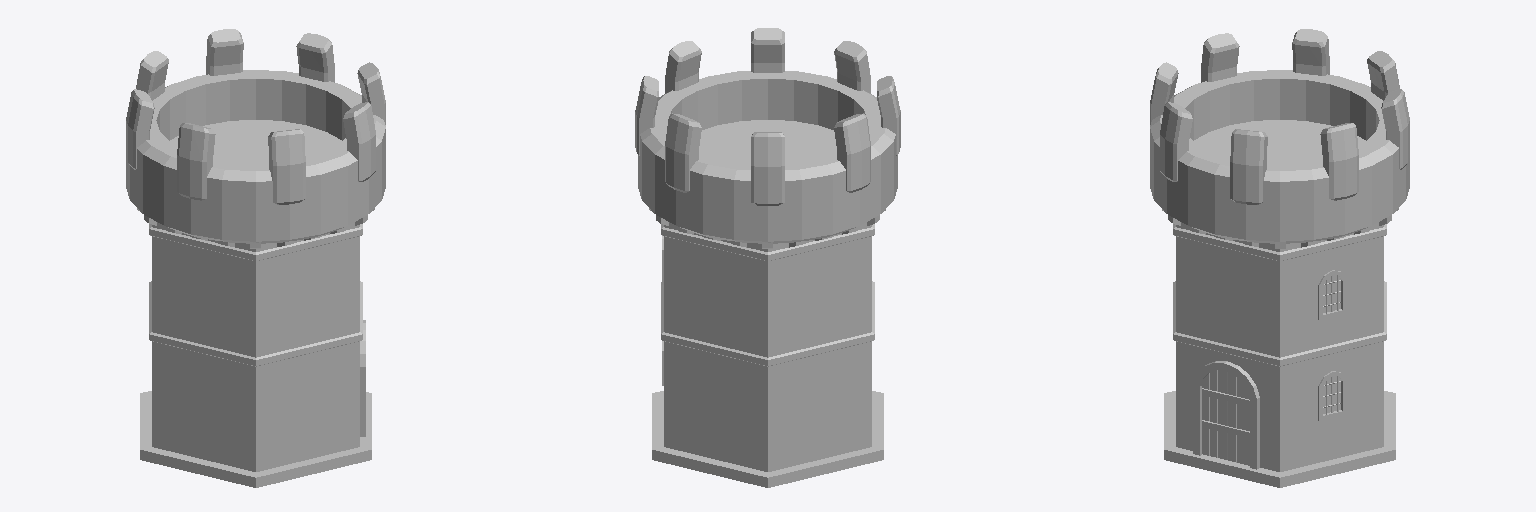
The model's file is tower.obj.
3 views of the same model, side by side, from view 1: azimuth 30°, elevation 25°; view 2: azimuth 150°, elevation 25°; view 3: azimuth 270°, elevation 25° (orthographic).
Parts seen in each view (by area): view 1: Bas_Destek_015_Cube_025; view 2: Bas_Destek_015_Cube_025; view 3: Bas_Destek_015_Cube_025.
Part boxes in pixels (bbox=[...]): Bas_Destek_015_Cube_025: bbox=[126, 29, 385, 487]; Bas_Destek_015_Cube_025: bbox=[635, 28, 900, 487]; Bas_Destek_015_Cube_025: bbox=[1150, 29, 1409, 487].
Size of the model in its own units: 2.37 by 3.44 by 2.31.